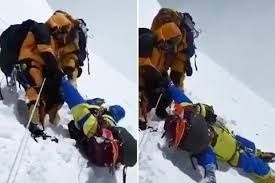falling: (160, 91, 275, 183)
